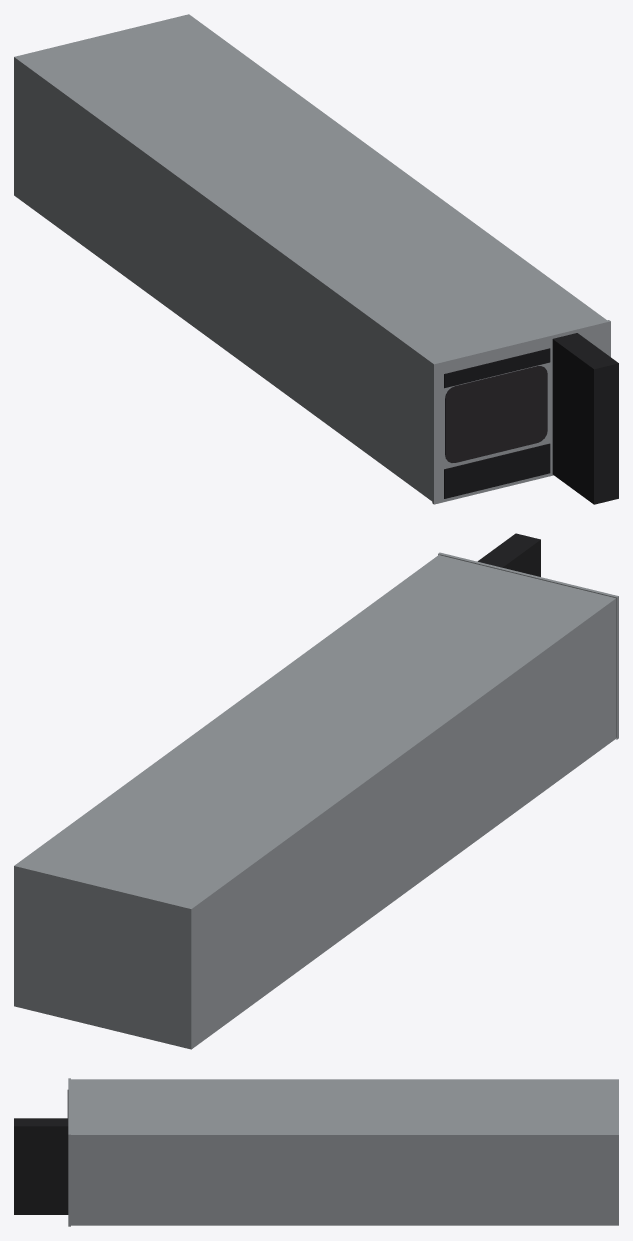
The model's file is PA-3200-PSU-650W-AC.far.glb.
The picture shows the model from 3 angles, top to bottom: view 1: azimuth 30°, elevation 25°; view 2: azimuth 150°, elevation 25°; view 3: azimuth 270°, elevation 25°; orthographic projection. The views are drawn at different scales.
Visible parts, largest first — view 1: PSU_far; view 2: PSU_far; view 3: PSU_far.
Boxes of the visible parts, left/top/right/bottom form: PSU_far: left=14, top=14, right=618, bottom=504; PSU_far: left=14, top=533, right=618, bottom=1049; PSU_far: left=14, top=1078, right=618, bottom=1226.
Bounding box in the file's own units: 0.0534 × 0.0405 × 0.2421.
2 materials, 1 textured.
